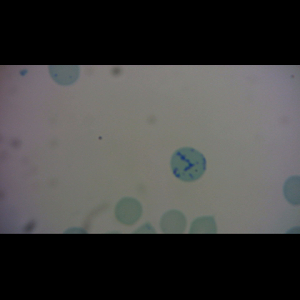aggregate reticulocyte: (170, 146, 207, 183)
erythrocyte: (114, 197, 143, 227), (159, 209, 187, 234)
